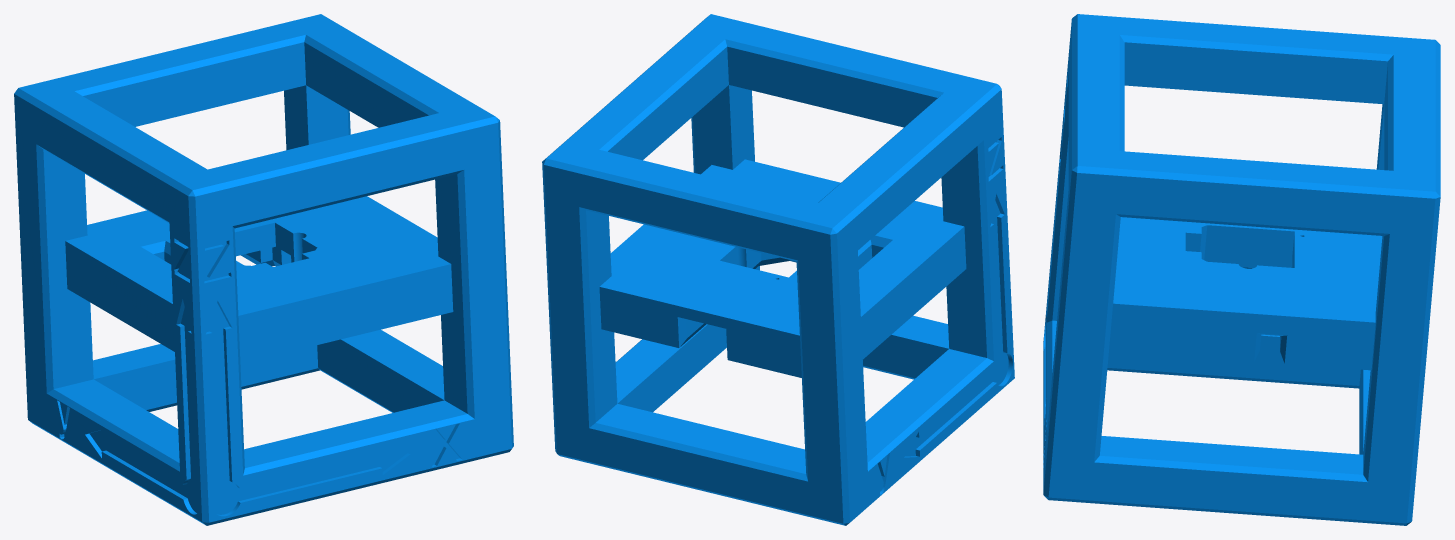
File: neblina_cube.dae
3 views of the same model, side by side, from view 1: azimuth 30°, elevation 25°; view 2: azimuth 150°, elevation 25°; view 3: azimuth 270°, elevation 25° (orthographic). The views are drawn at different scales.
Parts seen in each view (by area): view 1: node; view 2: node; view 3: node.
Boxes of the visible parts, x1=… form: node: x1=14, y1=14, x2=513, y2=525; node: x1=542, y1=14, x2=1014, y2=525; node: x1=1043, y1=14, x2=1440, y2=525.
Bounding box in the file's own units: 10.5 × 11.28 × 11.28.
